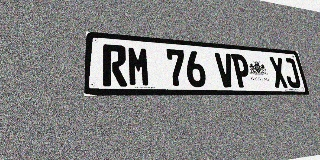6: (184, 50, 207, 87)
7: (165, 49, 188, 87)
J: (282, 58, 302, 88)
M: (127, 46, 151, 87)
P: (231, 54, 252, 88)
R: (103, 44, 127, 86)
V: (214, 53, 236, 87)
X: (268, 57, 289, 88)
